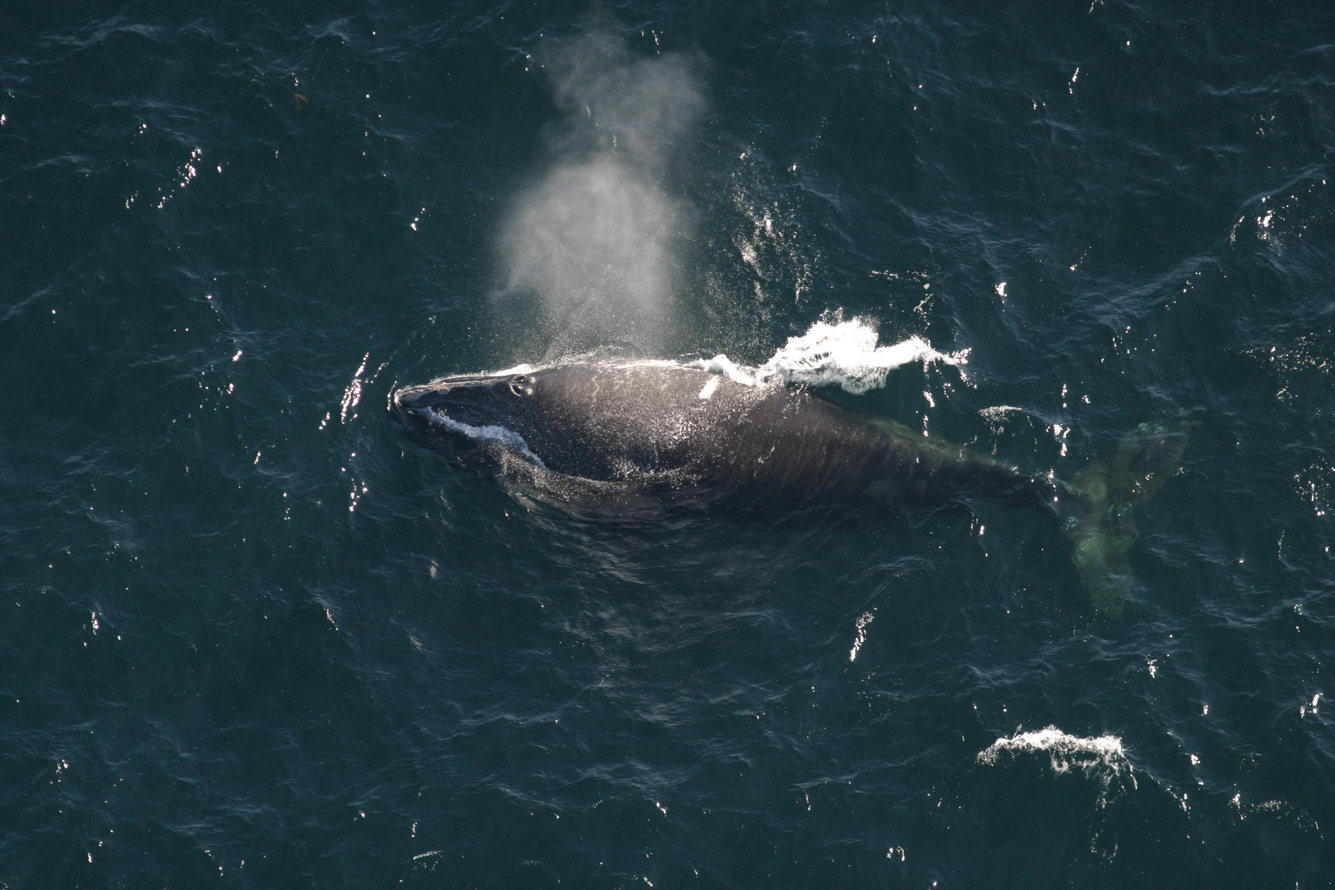whale: (379, 346, 1206, 648)
